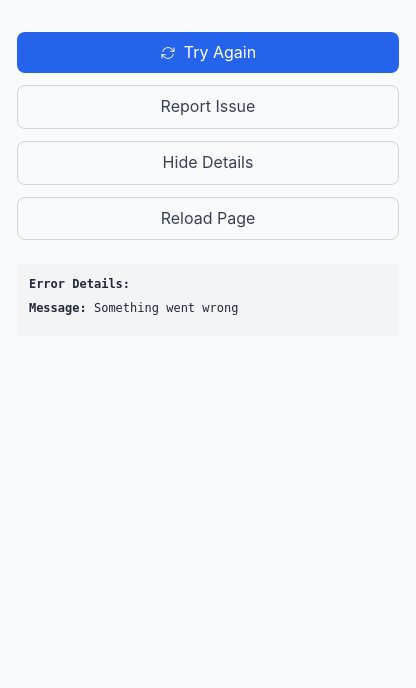
Test case: EmailErrorBoundary › User Feedback › should show feedback form
Click the button "Report Issue".
click(208, 107)  # box [17, 85, 399, 129]
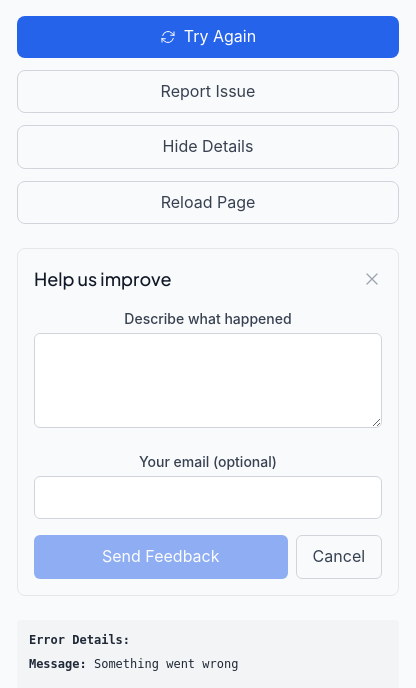
Expected: the heading "Help us improve" is shown, [34, 265, 172, 293]
Expected: the text box labelled "Describe what happened" is shown, [34, 333, 382, 428]
Expected: the field labelled "Your email (optional)" is shown, [34, 476, 382, 519]
